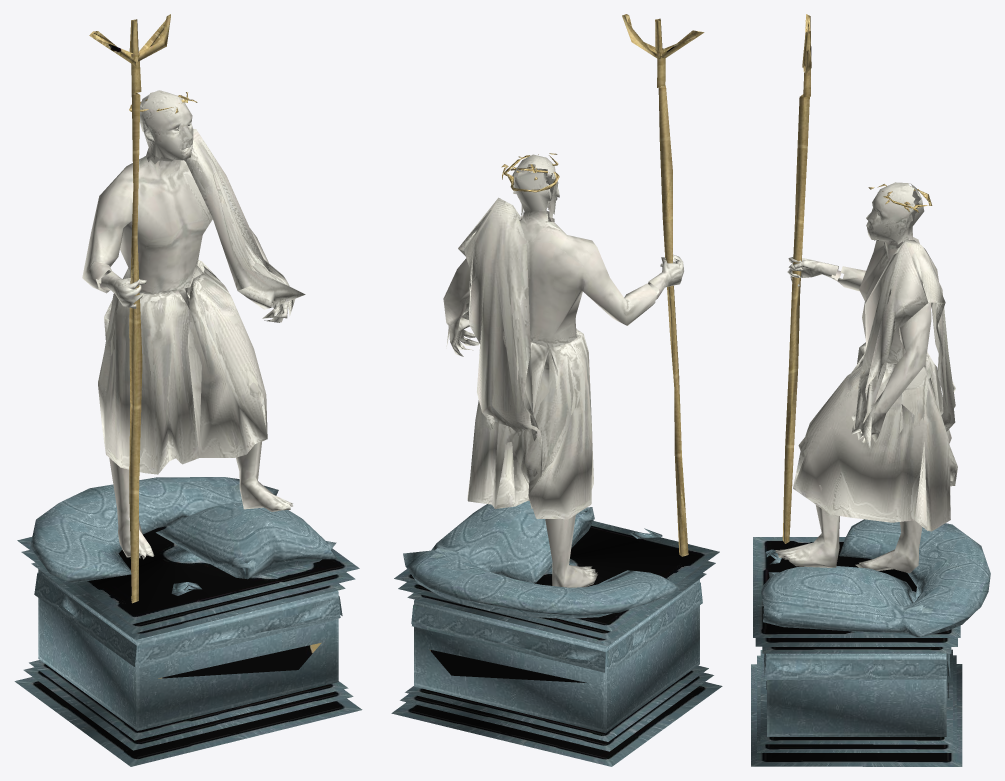
The model's file is guardian-tides-lod2.glb.
The picture shows the model from 3 angles, left to right: view 1: azimuth 30°, elevation 25°; view 2: azimuth 150°, elevation 25°; view 3: azimuth 270°, elevation 25°; orthographic projection. The views are drawn at different scales.
Visible parts, largest first — view 1: TIDES__PEDESTAL, TIDES__CLOTH, TIDES__WAVES, TIDES__BODY, TIDES__TRIDENT, TIDES__FACE, TIDES__DETAILS, TIDES__HAND_GRIP; view 2: TIDES__PEDESTAL, TIDES__CLOTH, TIDES__WAVES, TIDES__BODY, TIDES__TRIDENT, TIDES__DETAILS, TIDES__FACE, TIDES__HAND_GRIP; view 3: TIDES__PEDESTAL, TIDES__CLOTH, TIDES__WAVES, TIDES__BODY, TIDES__TRIDENT, TIDES__FACE, TIDES__HAND_GRIP.
Boxes of the visible parts, x1,y1,x2,y2 form: TIDES__PEDESTAL: (14,525,362,766); TIDES__CLOTH: (98,129,305,474); TIDES__WAVES: (30,477,337,595); TIDES__BODY: (82,94,292,559); TIDES__TRIDENT: (89,14,170,603); TIDES__FACE: (142,90,193,160); TIDES__DETAILS: (129,92,321,678); TIDES__HAND_GRIP: (99,271,146,308); TIDES__PEDESTAL: (391,521,722,766); TIDES__CLOTH: (446,197,593,519); TIDES__WAVES: (403,501,679,618); TIDES__BODY: (443,172,657,587); TIDES__TRIDENT: (622,14,704,556); TIDES__DETAILS: (429,153,586,682); TIDES__FACE: (512,154,559,217); TIDES__HAND_GRIP: (648,254,683,299); TIDES__PEDESTAL: (751,537,962,766); TIDES__CLOTH: (793,239,957,531); TIDES__WAVES: (761,519,990,637); TIDES__BODY: (775,184,932,573); TIDES__TRIDENT: (782,14,811,543); TIDES__FACE: (866,182,915,244); TIDES__HAND_GRIP: (787,257,841,286).
Size of the model in its own units: 3.44 by 9.02 by 3.03.
3 materials, 3 textured.
